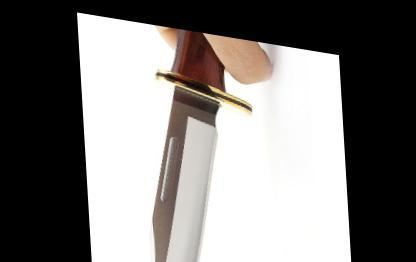knife: (113, 14, 289, 259)
